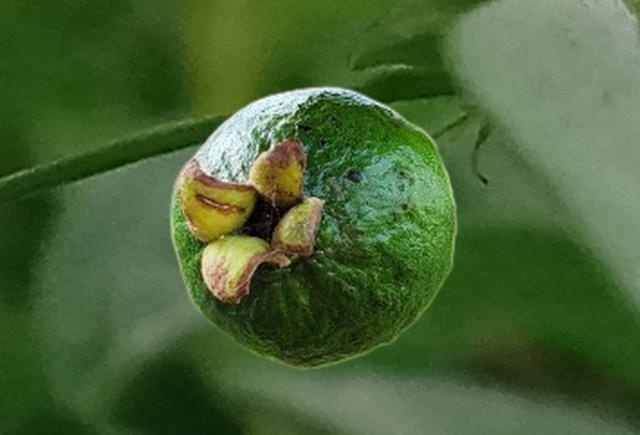guava: (168, 85, 458, 370)
